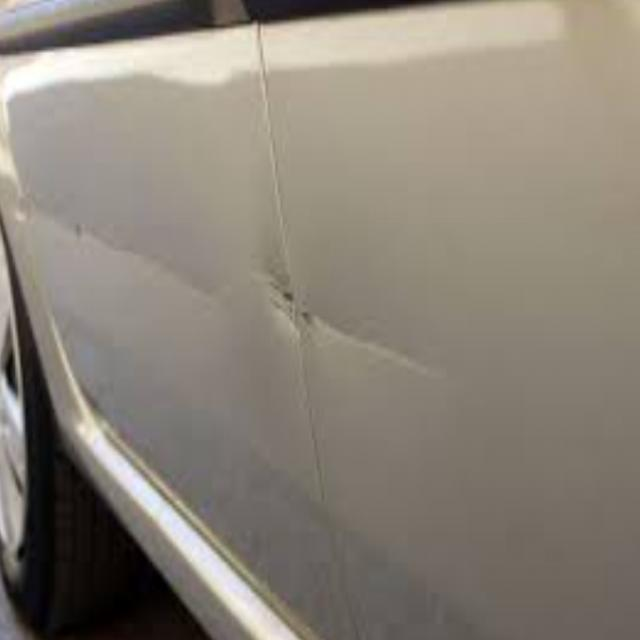dents: (238, 260, 435, 431)
